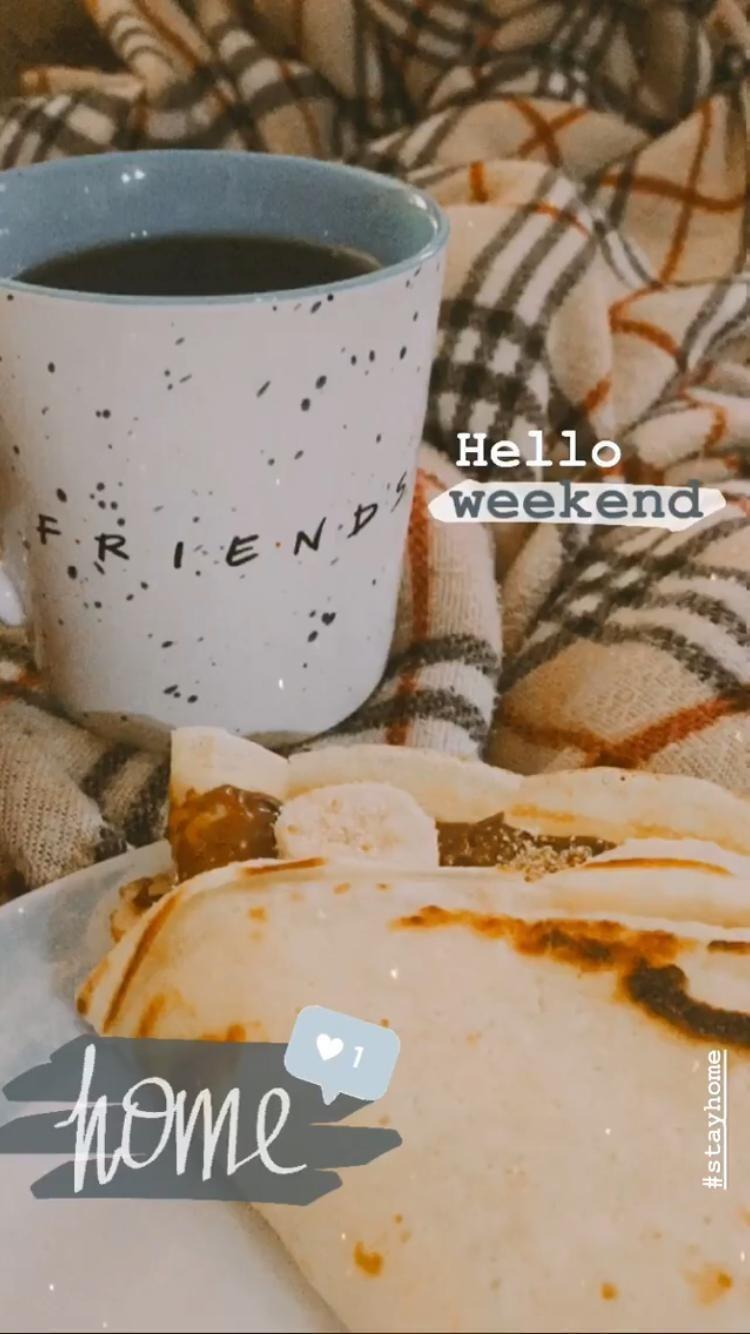cup-handle: (2, 146, 448, 753)
